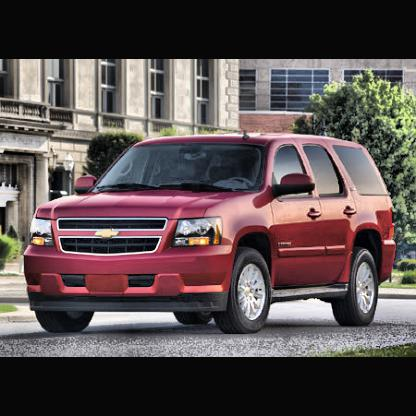Chevrolet Tahoe Hybrid SUV 2012: (24, 130, 399, 336)
